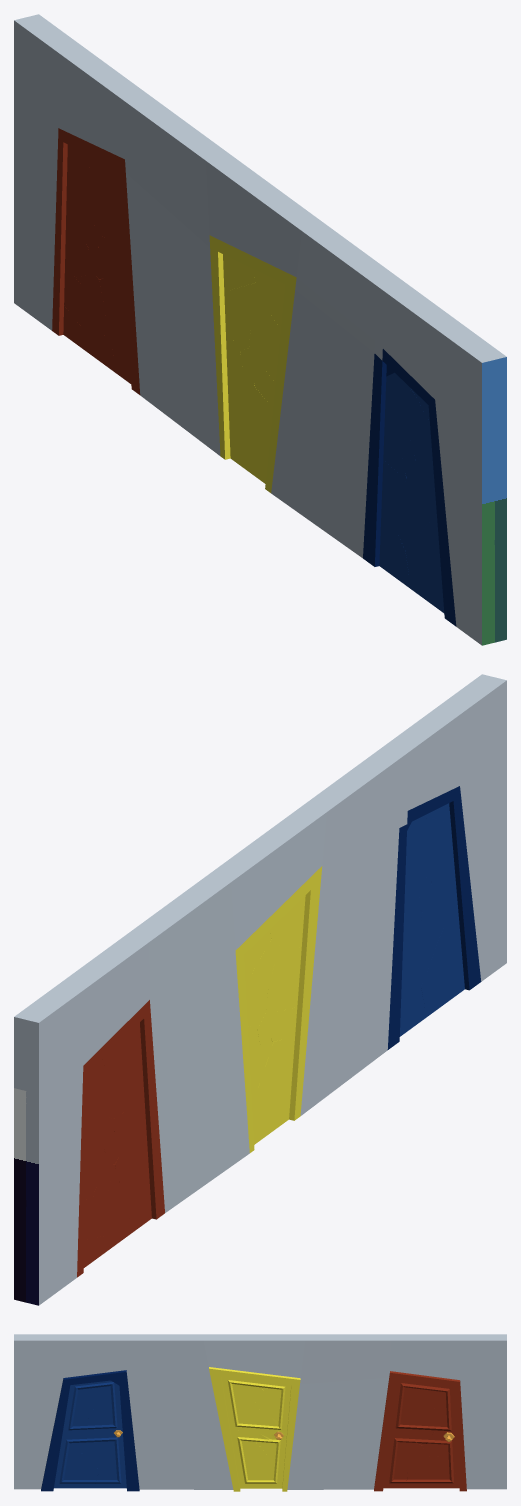
File: Portes.fbx
3 views of the same model, one above another, from view 1: azimuth 30°, elevation 25°; view 2: azimuth 150°, elevation 25°; view 3: azimuth 270°, elevation 25° (orthographic). The views are drawn at different scales.
Visible parts, largest first — view 1: Mur, Porte_Milieu_cell.002, Porte_Gauche_cell.010, Porte_Gauche_cell.015, Porte_Milieu_cell.005, Porte_Milieu_cell.006, Porte_Droite_cell.003, Porte_Gauche_cell.014, Porte_Droite_cell.007, Porte_Droite_cell.008, Porte_Gauche_cell.018, Porte_Droite_cell.004 (+11 smaller); view 2: Mur, Porte_Milieu_cell.002, Porte_Droite_cell.003, Porte_Gauche_cell.015, Porte_Milieu_cell.005, Porte_Gauche_cell.010, Porte_Milieu_cell.006, Porte_Droite_cell, Porte_Gauche_cell.014, Porte_Gauche_cell.018, Porte_Milieu_cell.001, Porte_Droite_cell.007 (+10 smaller); view 3: Mur, Porte_Milieu_cell.002, Porte_Droite_cell.003, Porte_Gauche_cell.015, Porte_Milieu_cell.005, Porte_Gauche_cell.010, Porte_Milieu_cell.006, Porte_Gauche_cell.014, Porte_Droite_cell.007, Porte_Droite_cell, Porte_Droite_cell.008, Porte_Milieu_cell.001 (+23 smaller).
Boxes of the visible parts, bbox=[...] form: Mur: bbox=[14, 14, 506, 645]; Porte_Milieu_cell.002: bbox=[229, 388, 272, 482]; Porte_Gauche_cell.010: bbox=[384, 372, 412, 441]; Porte_Gauche_cell.015: bbox=[405, 520, 440, 589]; Porte_Milieu_cell.005: bbox=[249, 301, 280, 381]; Porte_Milieu_cell.006: bbox=[224, 283, 262, 334]; Porte_Droite_cell.003: bbox=[112, 272, 131, 383]; Porte_Gauche_cell.014: bbox=[379, 506, 410, 588]; Porte_Droite_cell.007: bbox=[66, 144, 89, 217]; Porte_Droite_cell.008: bbox=[65, 217, 94, 277]; Porte_Gauche_cell.018: bbox=[392, 491, 427, 550]; Porte_Droite_cell.004: bbox=[64, 286, 117, 371]; Mur: bbox=[14, 674, 506, 1305]; Porte_Milieu_cell.002: bbox=[252, 1036, 294, 1144]; Porte_Droite_cell.003: bbox=[127, 1107, 151, 1230]; Porte_Gauche_cell.015: bbox=[421, 901, 460, 1016]; Porte_Milieu_cell.005: bbox=[266, 946, 301, 1014]; Porte_Gauche_cell.010: bbox=[404, 815, 428, 901]; Porte_Milieu_cell.006: bbox=[245, 939, 278, 1024]; Porte_Droite_cell: bbox=[103, 1056, 143, 1100]; Porte_Gauche_cell.014: bbox=[400, 977, 426, 1036]; Porte_Gauche_cell.018: bbox=[408, 928, 442, 986]; Porte_Milieu_cell.001: bbox=[270, 895, 305, 947]; Porte_Droite_cell.007: bbox=[86, 1059, 105, 1142]; Mur: bbox=[14, 1334, 506, 1491]; Porte_Milieu_cell.002: bbox=[233, 1442, 283, 1488]; Porte_Droite_cell.003: bbox=[383, 1427, 408, 1488]; Porte_Gauche_cell.015: bbox=[58, 1439, 99, 1488]; Porte_Milieu_cell.005: bbox=[226, 1394, 263, 1432]; Porte_Gauche_cell.010: bbox=[92, 1380, 121, 1420]; Porte_Milieu_cell.006: bbox=[250, 1387, 289, 1423]; Porte_Gauche_cell.014: bbox=[94, 1456, 126, 1488]; Porte_Droite_cell.007: bbox=[432, 1385, 456, 1424]; Porte_Droite_cell: bbox=[392, 1391, 433, 1413]; Porte_Droite_cell.008: bbox=[427, 1424, 457, 1453]; Porte_Milieu_cell.001: bbox=[221, 1377, 258, 1402].
Size of the model in its own units: 71.84 by 500 by 1500.
